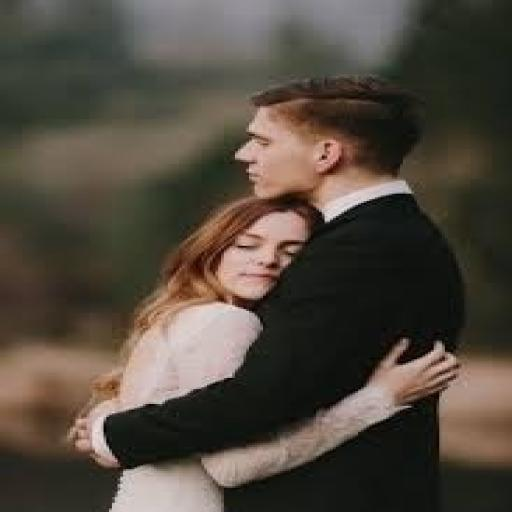hugging: (70, 73, 470, 510)
